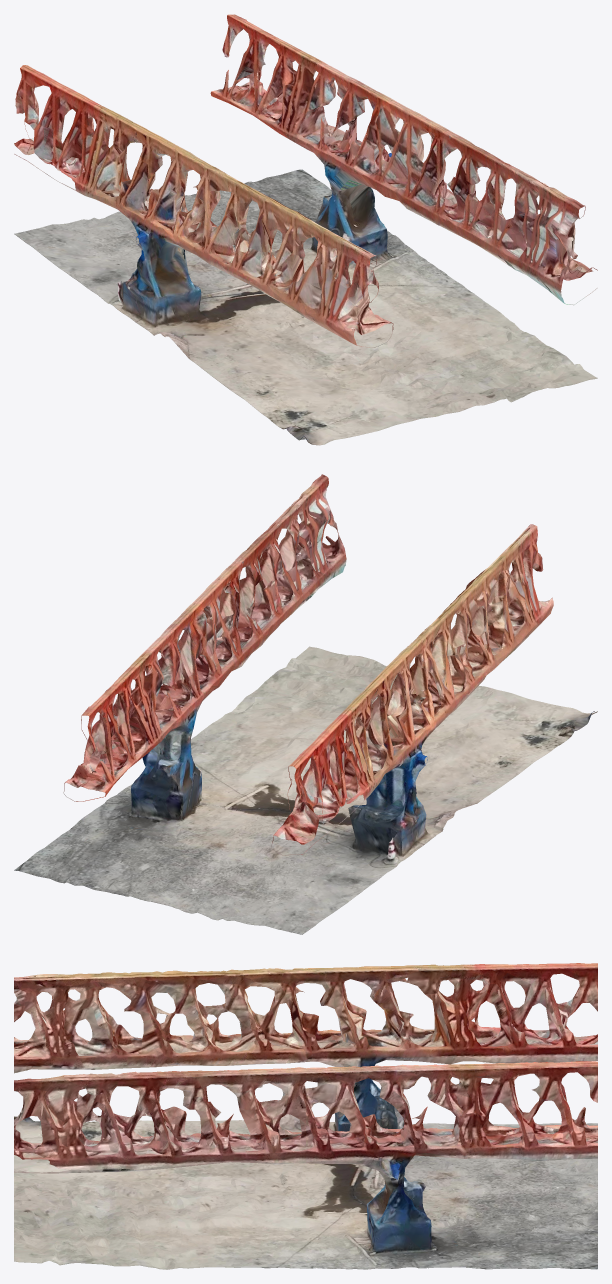
File: BlockYXYY_L21_34.glb
3 views of the same model, one above another, from view 1: azimuth 30°, elevation 25°; view 2: azimuth 150°, elevation 25°; view 3: azimuth 270°, elevation 25° (orthographic).
Parts seen in each view (by area): view 1: rtc; view 2: rtc; view 3: rtc.
Part boxes in pixels (bbox=[...]): rtc: bbox=[14, 14, 597, 445]; rtc: bbox=[14, 474, 597, 934]; rtc: bbox=[14, 963, 597, 1269].
Size of the model in its own units: 9.75 by 6.08 by 17.28.
6 materials, 6 textured.
